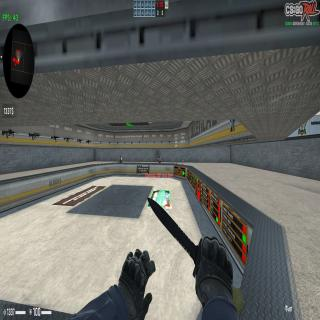CT-Body: (119, 155, 122, 163)
CT-Head: (119, 155, 121, 158)
T-Body: (158, 156, 161, 163)
T-Head: (159, 156, 160, 159)
